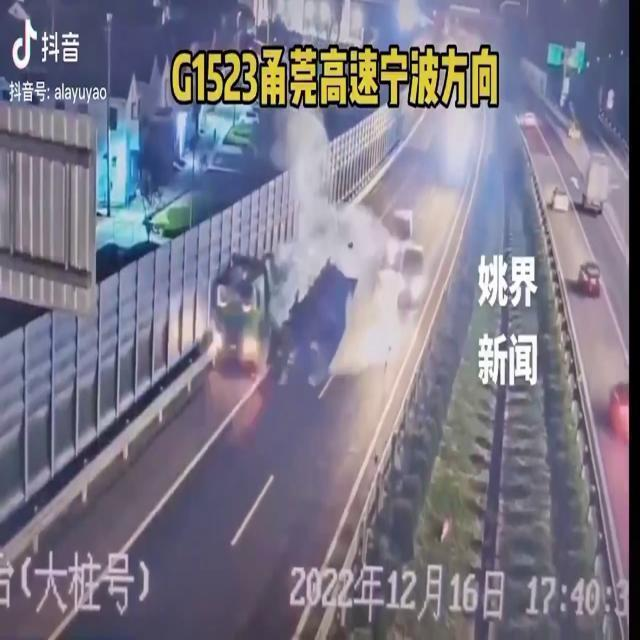accident: (209, 228, 365, 386)
non-accident: (382, 209, 428, 311), (548, 152, 614, 218)
